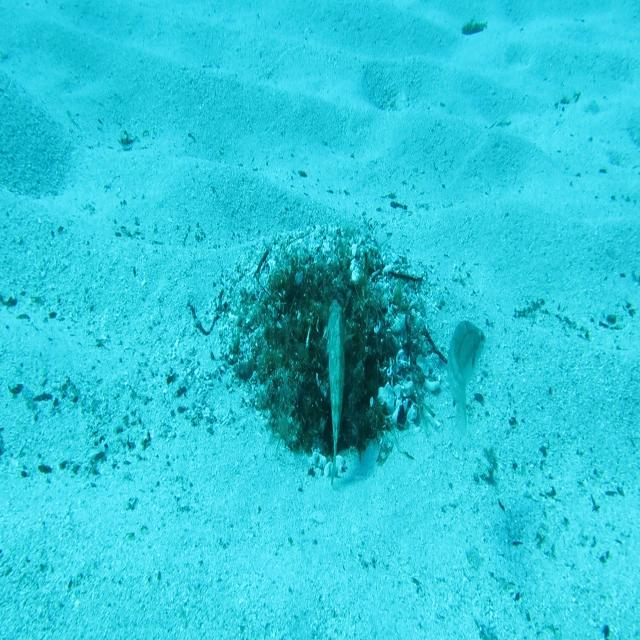FAN: (312, 292, 359, 487)
core_nest: (298, 276, 349, 309)
female: (442, 317, 487, 441)
nest: (214, 212, 456, 486)
vegetation: (461, 19, 491, 42)
